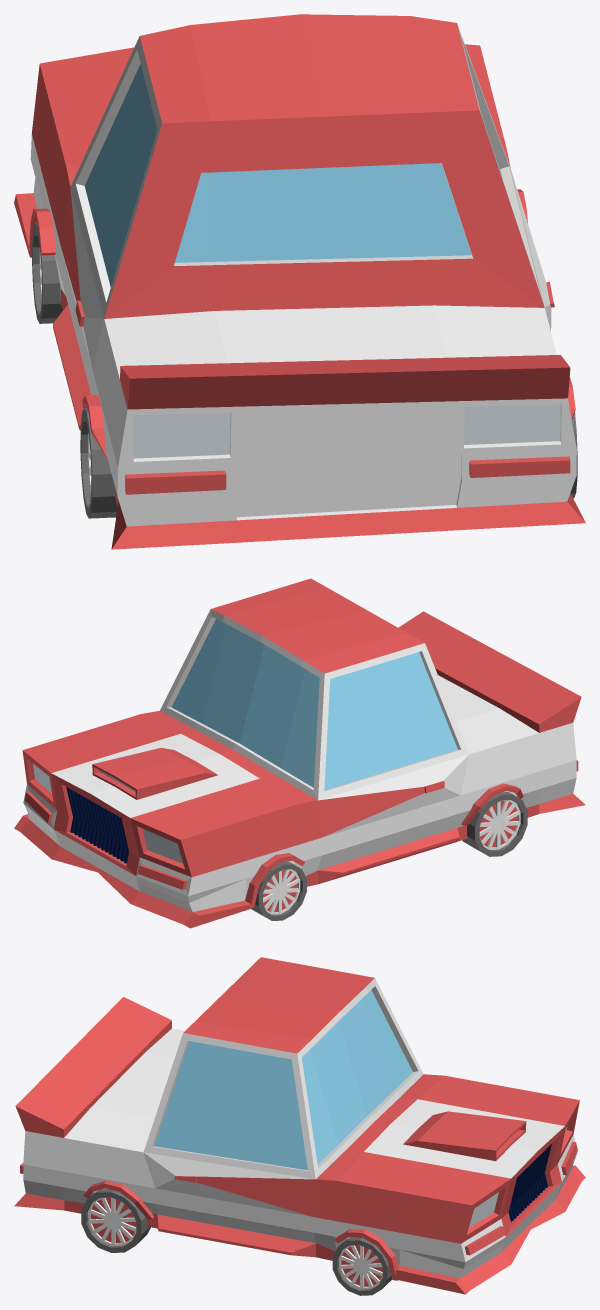
Rendered from Low-Poly-Racing-Car.glb.
The picture shows the model from 3 angles, top to bottom: view 1: azimuth 30°, elevation 25°; view 2: azimuth 150°, elevation 25°; view 3: azimuth 270°, elevation 25°; orthographic projection. The views are drawn at different scales.
Parts seen in each view (by area): view 1: body; view 2: body; view 3: body.
Part boxes in pixels (x1,y1,x2,y2): body: (14,14,585,549); body: (14,578,585,928); body: (14,957,585,1295).
Bounding box in the file's own units: 2.16 × 1.11 × 2.64.
